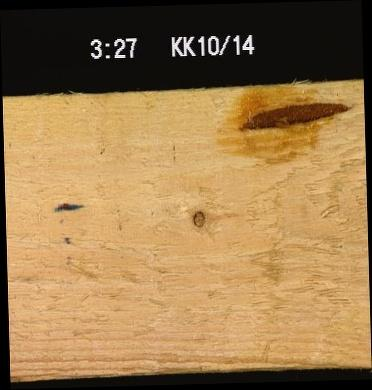dry_knot: (188, 209, 208, 229)
